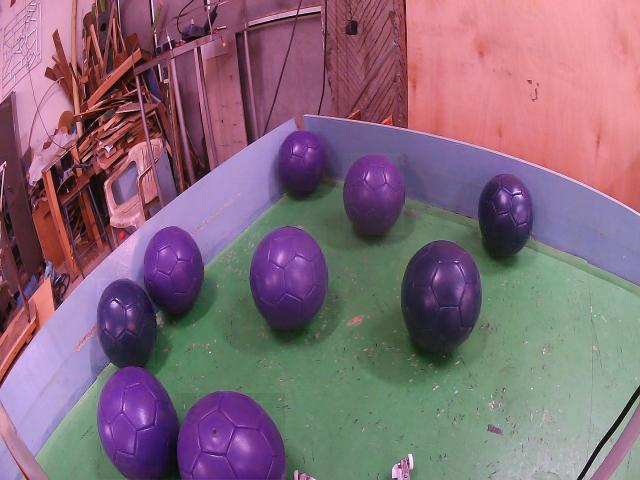jambhalya: (175, 394, 285, 480), (97, 366, 178, 479), (250, 226, 327, 329), (145, 227, 203, 313), (344, 154, 404, 235), (280, 131, 327, 196)
kaalyya: (402, 240, 482, 352), (97, 279, 155, 368), (479, 175, 534, 256)
